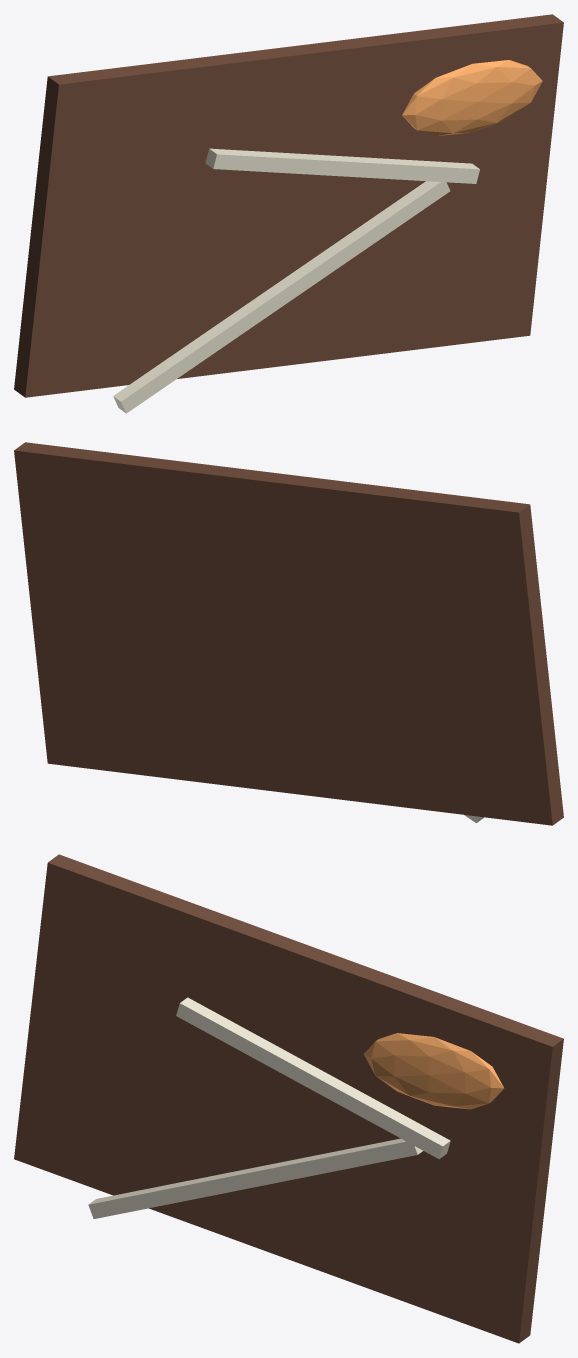
The model's file is 03_weathering_wear_overlay_3.glb.
3 views of the same model, one above another, from view 1: azimuth 30°, elevation 25°; view 2: azimuth 150°, elevation 25°; view 3: azimuth 330°, elevation 25° (orthographic).
Parts seen in each view (by area): view 1: wear_plate, scratch_a, rust_or_moss_spot, scratch_b; view 2: wear_plate; view 3: wear_plate, rust_or_moss_spot, scratch_b, scratch_a.
Boxes of the visible parts, bbox=[...] form: wear_plate: bbox=[14, 14, 563, 397]; scratch_a: bbox=[113, 181, 450, 413]; rust_or_moss_spot: bbox=[402, 60, 542, 136]; scratch_b: bbox=[205, 148, 479, 183]; wear_plate: bbox=[14, 442, 563, 825]; wear_plate: bbox=[14, 854, 563, 1343]; rust_or_moss_spot: bbox=[364, 1033, 504, 1109]; scratch_b: bbox=[176, 997, 450, 1158]; scratch_a: bbox=[88, 1138, 422, 1218].
Size of the model in its own units: 1.38 by 0.8944 by 0.134.
